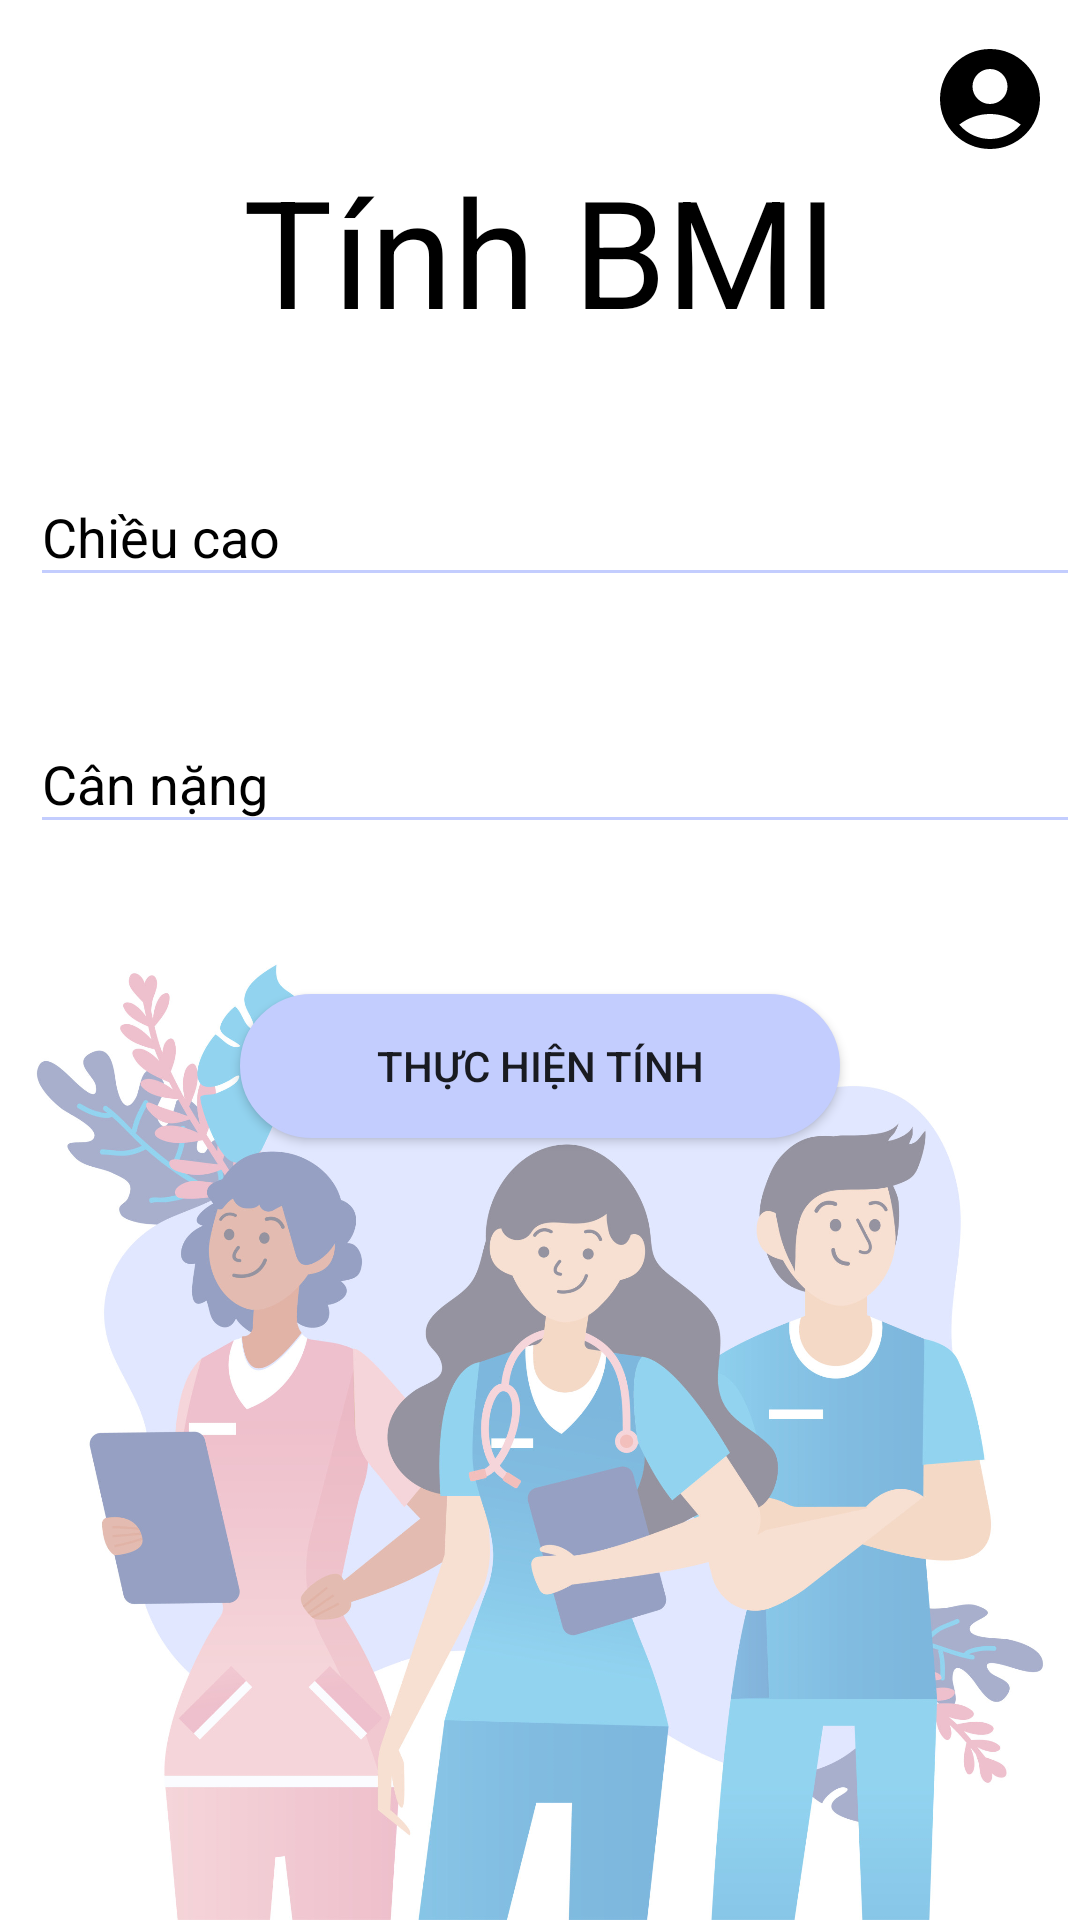

Point at icon controls on the screen. Image size 1080 × 1920, points as (x,y).
account: (990,99)
